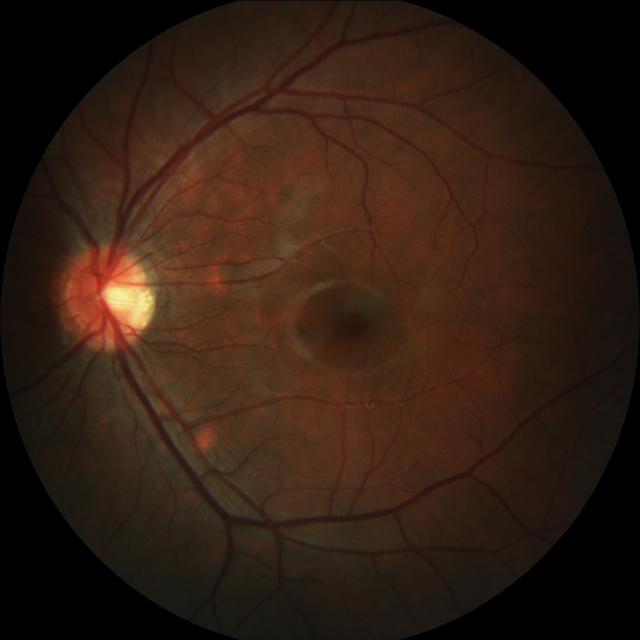OC: (96, 274, 142, 315)
OD: (63, 246, 151, 345)
